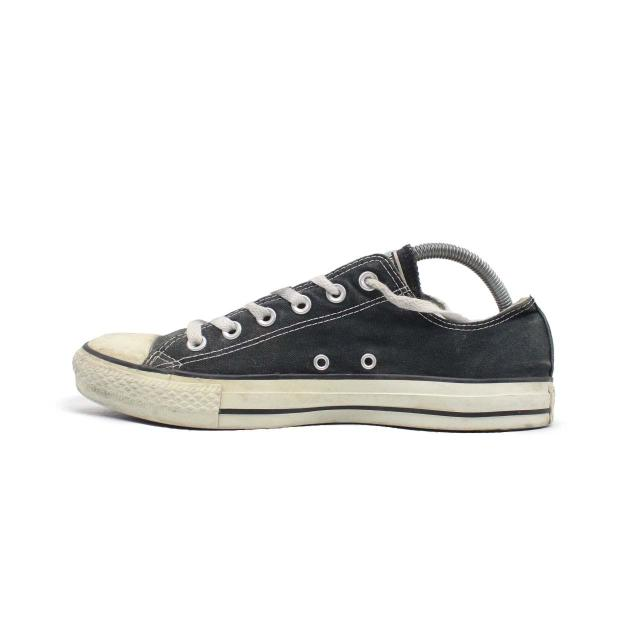heel: (485, 294, 552, 380)
midsole: (71, 348, 554, 433)
uppersole: (81, 248, 500, 380)
